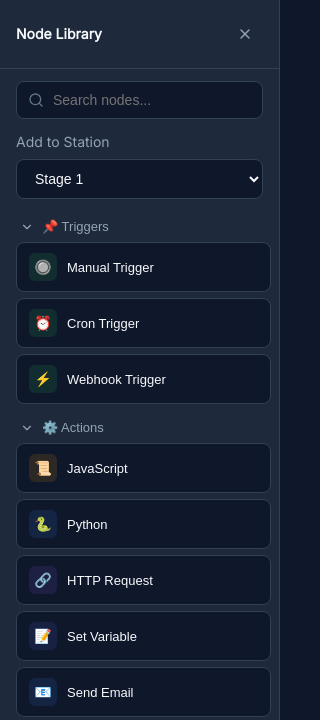
Scenario: NodeLibrary › search filter shows only matching nodes
The width and height of the screenshot is (320, 720).
Type "java" into the field with placeholder "Search nodes..." at (140, 100), box [16,81,263,119]
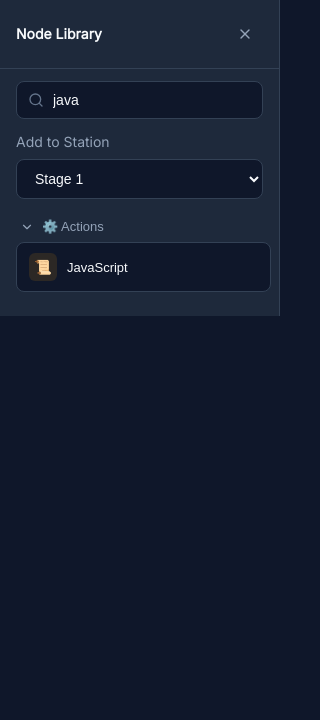
Expected: the text "JavaScript" is shown, [67,260,128,275]
Expected: the button "Manual Trigger" is gone
Expected: the button "HTTP Request" is gone
